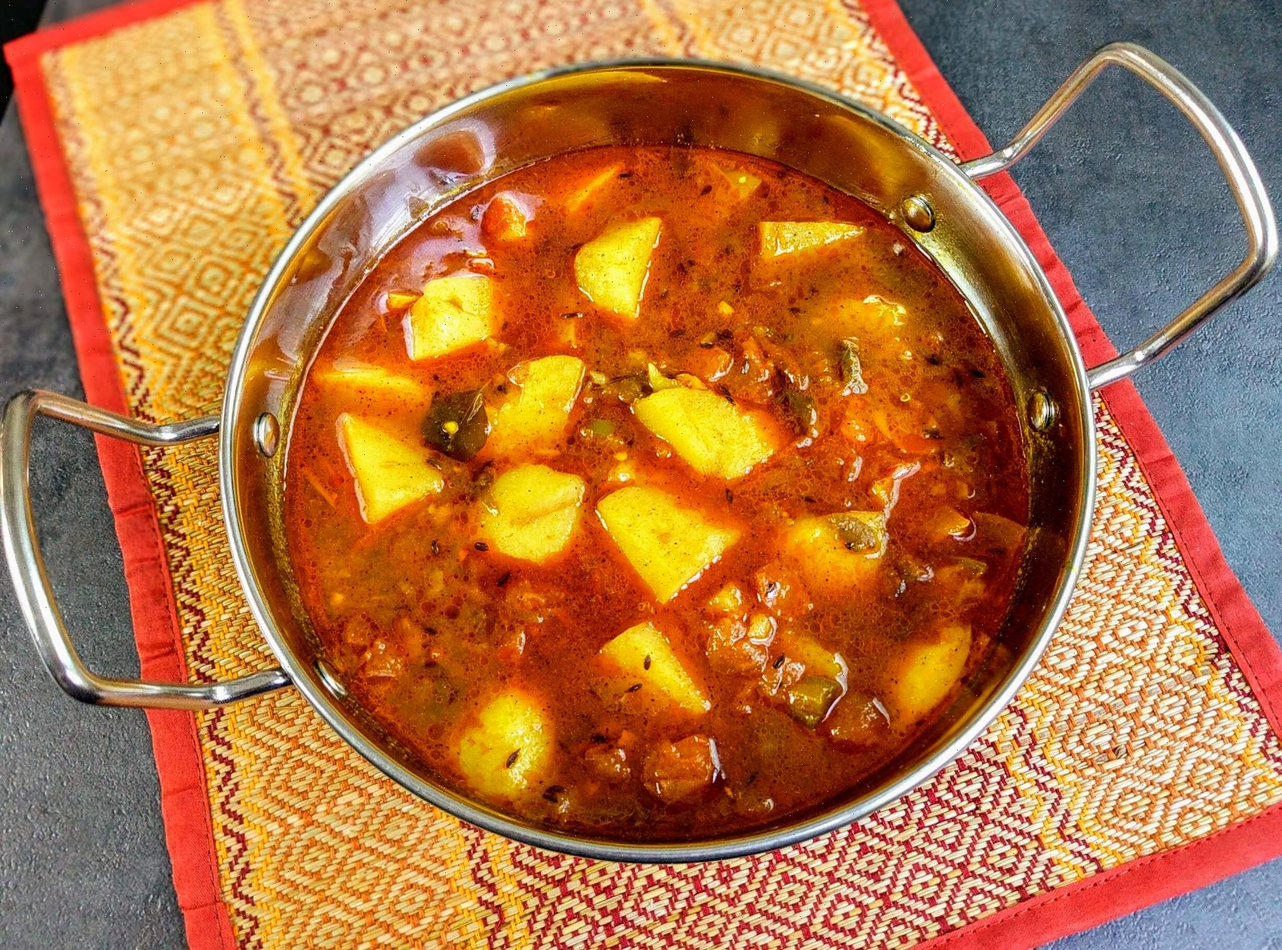aloo sabji: (314, 189, 973, 780)
